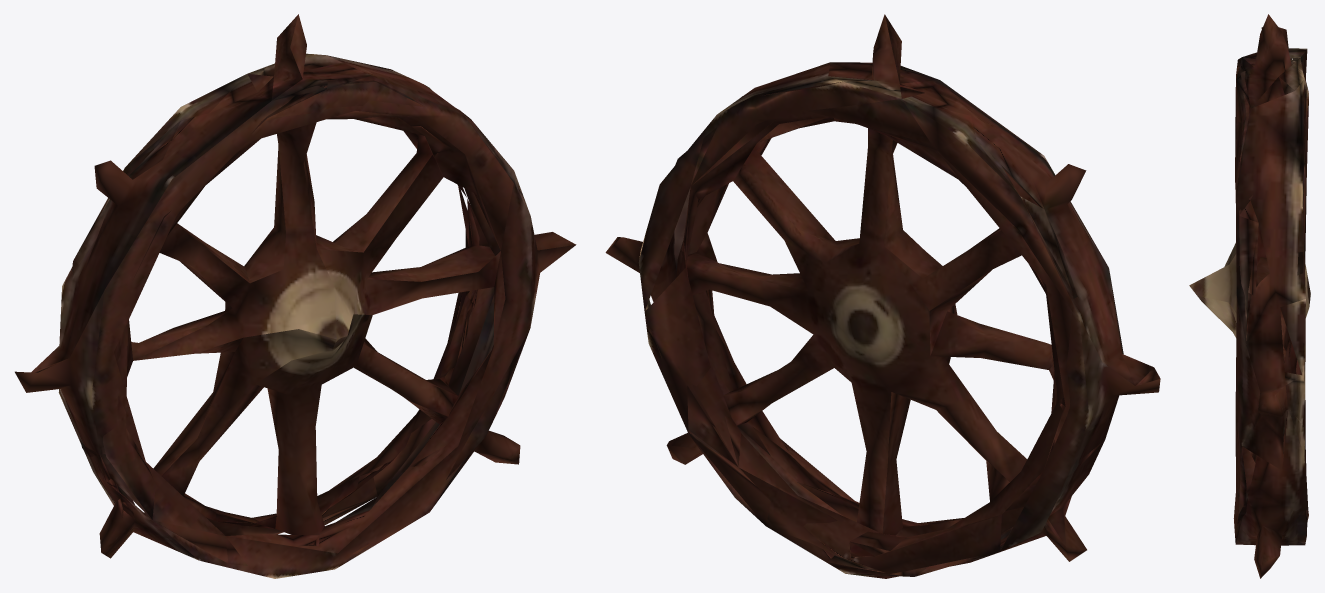
The model's file is wreck-wheel.glb.
3 views of the same model, side by side, from view 1: azimuth 30°, elevation 25°; view 2: azimuth 150°, elevation 25°; view 3: azimuth 270°, elevation 25° (orthographic). The views are drawn at different scales.
Parts seen in each view (by area): view 1: Mesh_0.003; view 2: Mesh_0.003; view 3: Mesh_0.003.
Boxes of the visible parts, x1=… form: Mesh_0.003: x1=15, y1=14, x2=576, y2=578; Mesh_0.003: x1=605, y1=14, x2=1160, y2=578; Mesh_0.003: x1=1189, y1=14, x2=1310, y2=578.
Size of the model in its own units: 1.2 by 1.16 by 0.2456.
Materials: 1 (1 with a texture image).
